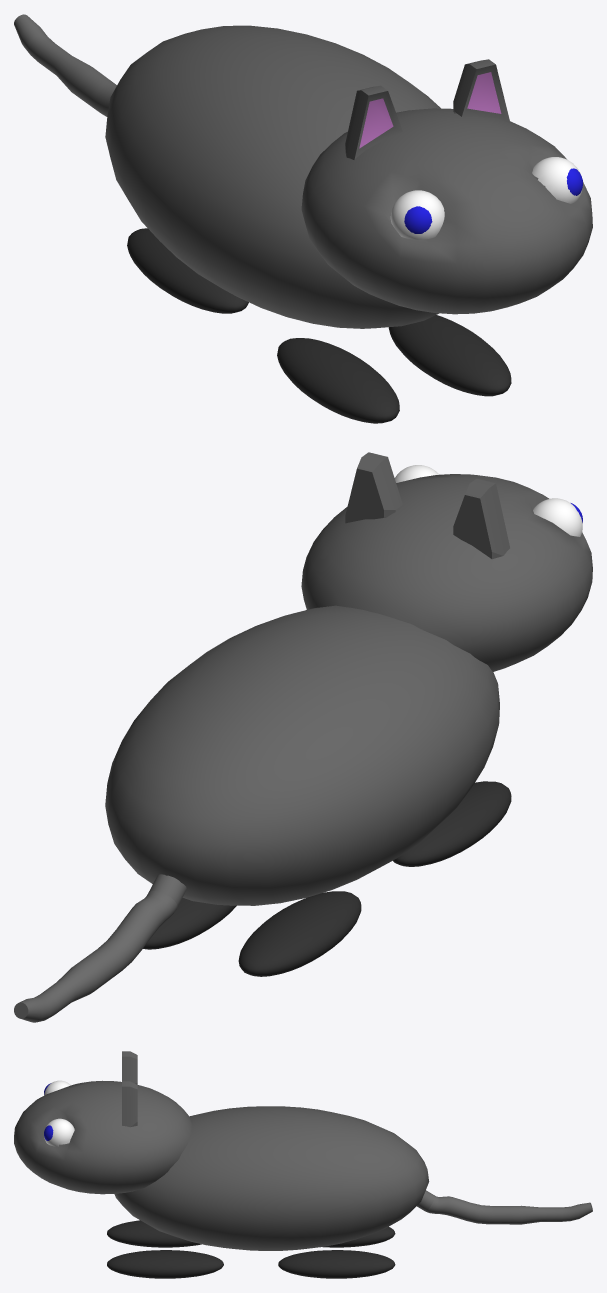
Rendered from AwfullMouse.fbx.
3 views of the same model, one above another, from view 1: azimuth 30°, elevation 25°; view 2: azimuth 150°, elevation 25°; view 3: azimuth 270°, elevation 25° (orthographic). The views are drawn at different scales.
Visible parts, largest first — view 1: Sphere002, Sphere003, Sphere008; view 2: Sphere002, Sphere003, Sphere008; view 3: Sphere002, Sphere003, Sphere008.
Part boxes in pixels (x1,y1,x2,y2): Sphere002: [14, 14, 592, 328]; Sphere003: [127, 228, 511, 423]; Sphere008: [390, 157, 582, 239]; Sphere002: [14, 452, 592, 1022]; Sphere003: [143, 781, 511, 976]; Sphere008: [394, 465, 582, 536]; Sphere002: [14, 1051, 592, 1250]; Sphere003: [107, 1220, 395, 1278]; Sphere008: [44, 1080, 74, 1146].
Size of the model in its own units: 22.74 by 25.94 by 71.39.
